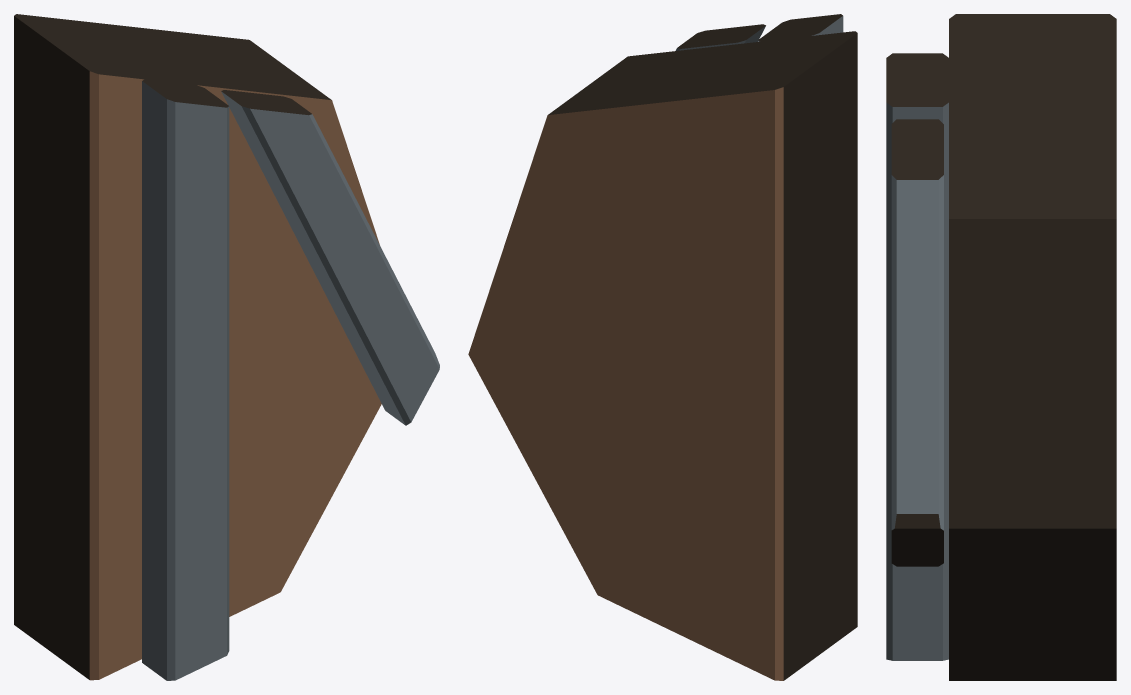
Rendered from SM_DoorShard_02_39.fbx.
The picture shows the model from 3 angles, left to right: view 1: azimuth 30°, elevation 25°; view 2: azimuth 150°, elevation 25°; view 3: azimuth 270°, elevation 25°; orthographic projection. The views are drawn at different scales.
Parts seen in each view (by area): view 1: SM_DoorShard_02_39; view 2: SM_DoorShard_02_39; view 3: SM_DoorShard_02_39.
Boxes of the visible parts, x1,y1,x2,y2 form: SM_DoorShard_02_39: [14, 14, 439, 680]; SM_DoorShard_02_39: [468, 14, 857, 680]; SM_DoorShard_02_39: [886, 14, 1116, 680].
Bounding box in the file's own units: 35.88 × 22 × 65.23.
